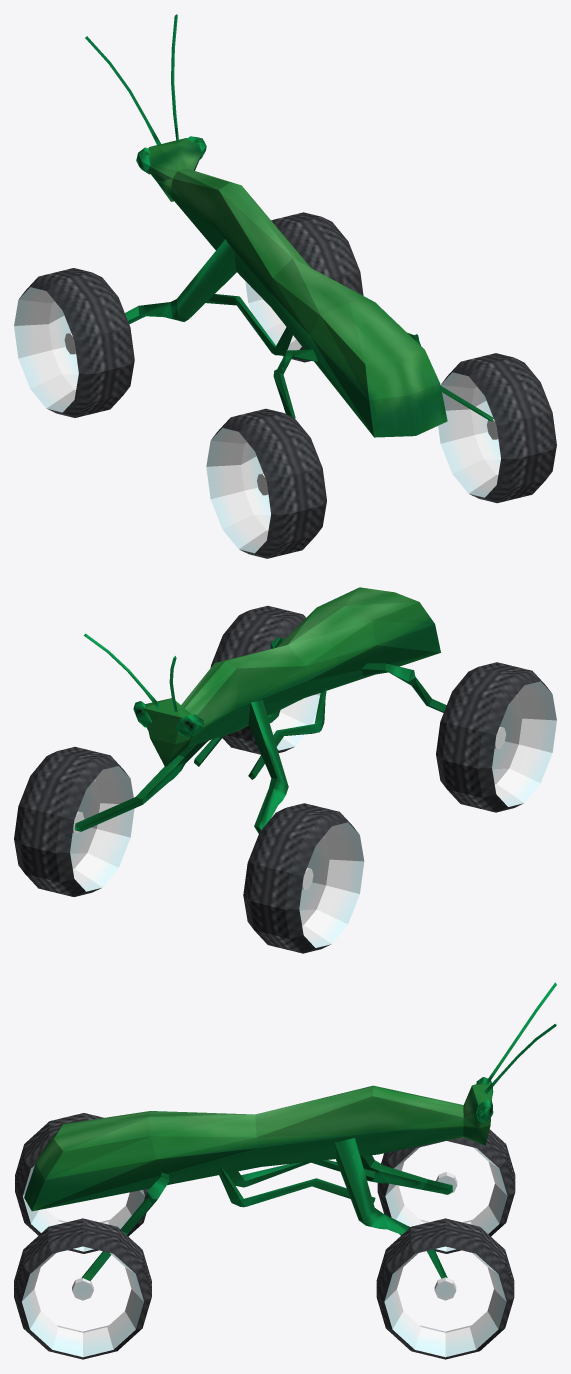
File: prayingmantisshow.glb
3 renders of one model, top to bottom at view 1: azimuth 30°, elevation 25°; view 2: azimuth 150°, elevation 25°; view 3: azimuth 270°, elevation 25°, orthographic. The views are drawn at different scales.
Visible parts, largest first — view 1: ZtoY, wheellr1, wheellf1, wheelrr1, legs1, wheelrf1, antenna1; view 2: ZtoY, wheellf1, wheellr1, wheelrf1, legs1, wheelrr1, eyes1, antenna1; view 3: ZtoY, wheelrf1, wheelrr1, legs1, wheellf1, wheellr1, antenna1.
Boxes of the visible parts, x1,y1,x2,y2 form: ZtoY: (148, 138, 447, 437); wheellr1: (206, 408, 326, 558); wheellf1: (14, 268, 134, 417); wheelrr1: (438, 353, 556, 503); legs1: (125, 239, 493, 421); wheelrf1: (245, 212, 363, 362); antenna1: (85, 14, 178, 145); ZtoY: (143, 587, 440, 766); wheellf1: (243, 803, 364, 953); wheellr1: (436, 662, 556, 812); wheelrf1: (14, 746, 134, 896); legs1: (74, 637, 446, 833); wheelrr1: (210, 605, 320, 754); eyes1: (133, 701, 203, 737); antenna1: (84, 633, 177, 711); ZtoY: (24, 1083, 491, 1211); wheelrf1: (376, 1218, 514, 1359); wheelrr1: (14, 1218, 151, 1359); legs1: (82, 1137, 452, 1281); wheellf1: (377, 1129, 515, 1253); wheellr1: (15, 1113, 149, 1253); antenna1: (484, 982, 556, 1093).
Bounding box in the file's own units: 4.44 × 4.67 × 7.76.
Materials: 2 (2 with a texture image).
